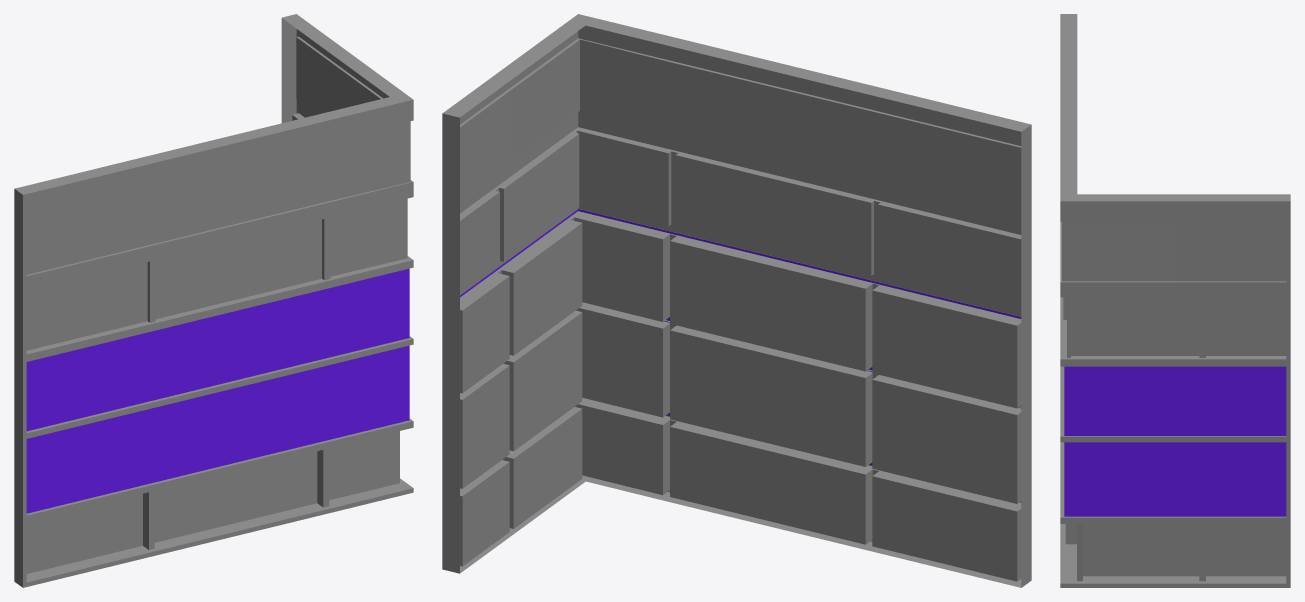
The model's file is Building_Tile_Corner_2500x2500_G.FBX.
3 views of the same model, side by side, from view 1: azimuth 30°, elevation 25°; view 2: azimuth 150°, elevation 25°; view 3: azimuth 270°, elevation 25° (orthographic). The views are drawn at different scales.
Visible parts, largest first — view 1: Geometry_Building_Tile_Corner_2500x2500_G_LOD00; view 2: Geometry_Building_Tile_Corner_2500x2500_G_LOD00; view 3: Geometry_Building_Tile_Corner_2500x2500_G_LOD00.
Part boxes in pixels (x1,y1,x2,y2): Geometry_Building_Tile_Corner_2500x2500_G_LOD00: (14,14,413,587); Geometry_Building_Tile_Corner_2500x2500_G_LOD00: (442,14,1031,587); Geometry_Building_Tile_Corner_2500x2500_G_LOD00: (1060,14,1290,587).
Size of what is drawn, in the model's own units: 2600 by 2500 by 1350.
